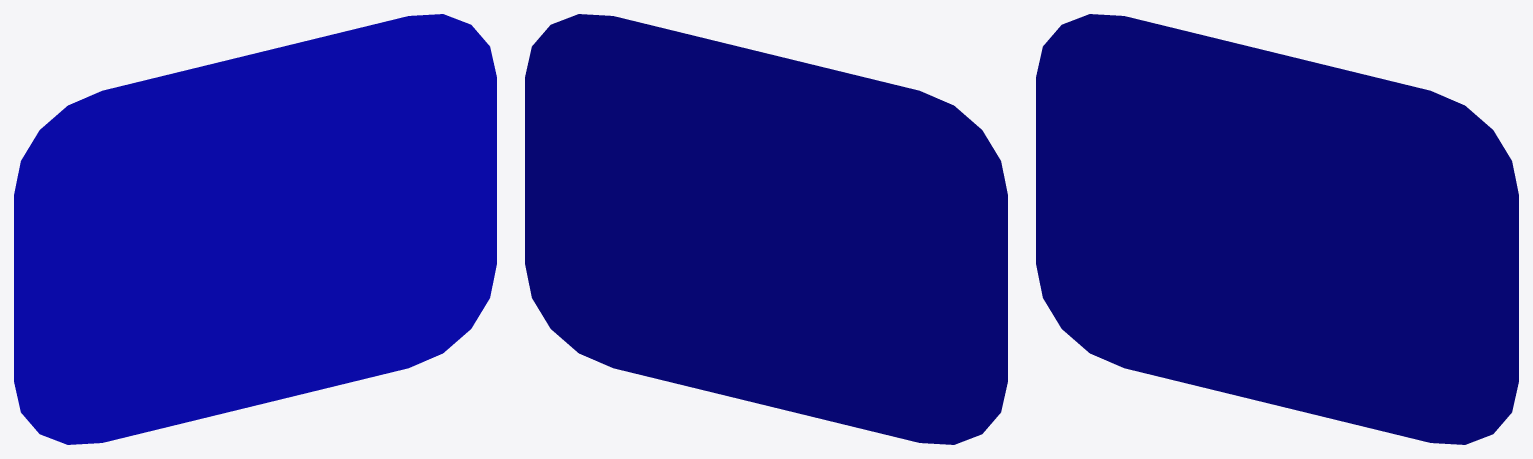
The model's file is SM_pingmu.fbx.
3 views of the same model, side by side, from view 1: azimuth 30°, elevation 25°; view 2: azimuth 150°, elevation 25°; view 3: azimuth 330°, elevation 25° (orthographic).
Visible parts, largest first — view 1: SM_pingmu; view 2: SM_pingmu; view 3: SM_pingmu.
Boxes of the visible parts, box(x1,y1,x2,y2) form: SM_pingmu: box(14, 14, 496, 444); SM_pingmu: box(525, 14, 1007, 444); SM_pingmu: box(1036, 14, 1518, 444).
Size of the model in its own units: 356 by 248 by 0.
